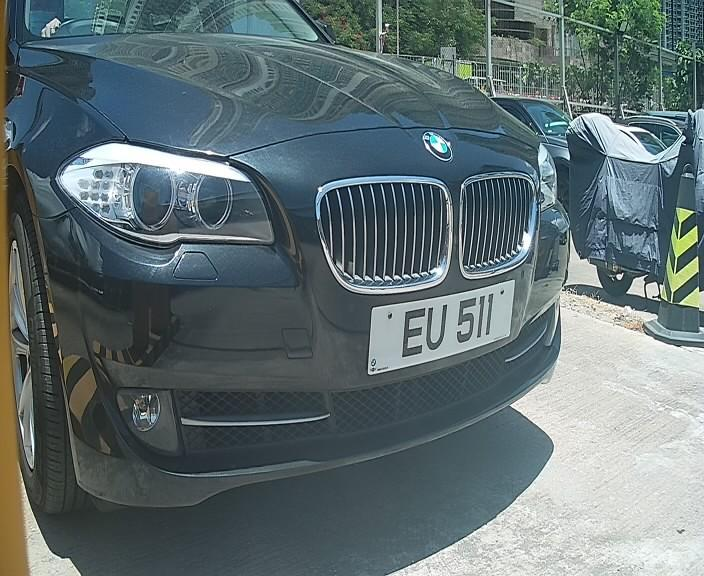License Plate: (356, 268, 527, 388)
